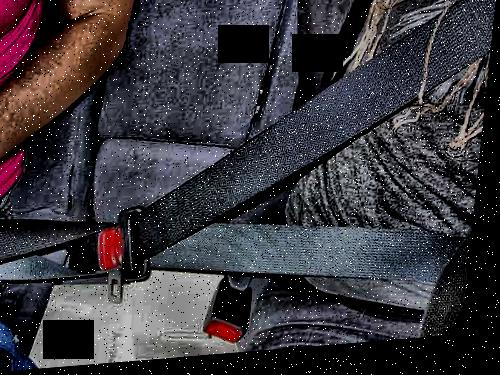seatbelt: (115, 7, 491, 305)
